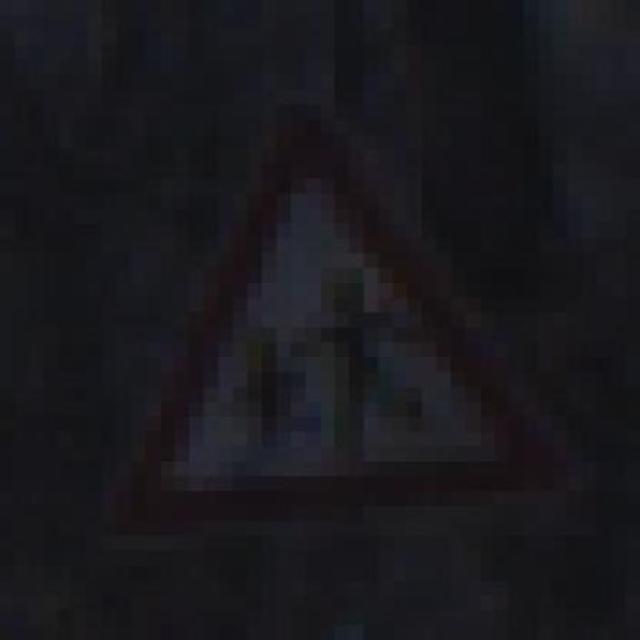Beware of children: (87, 104, 582, 521)
